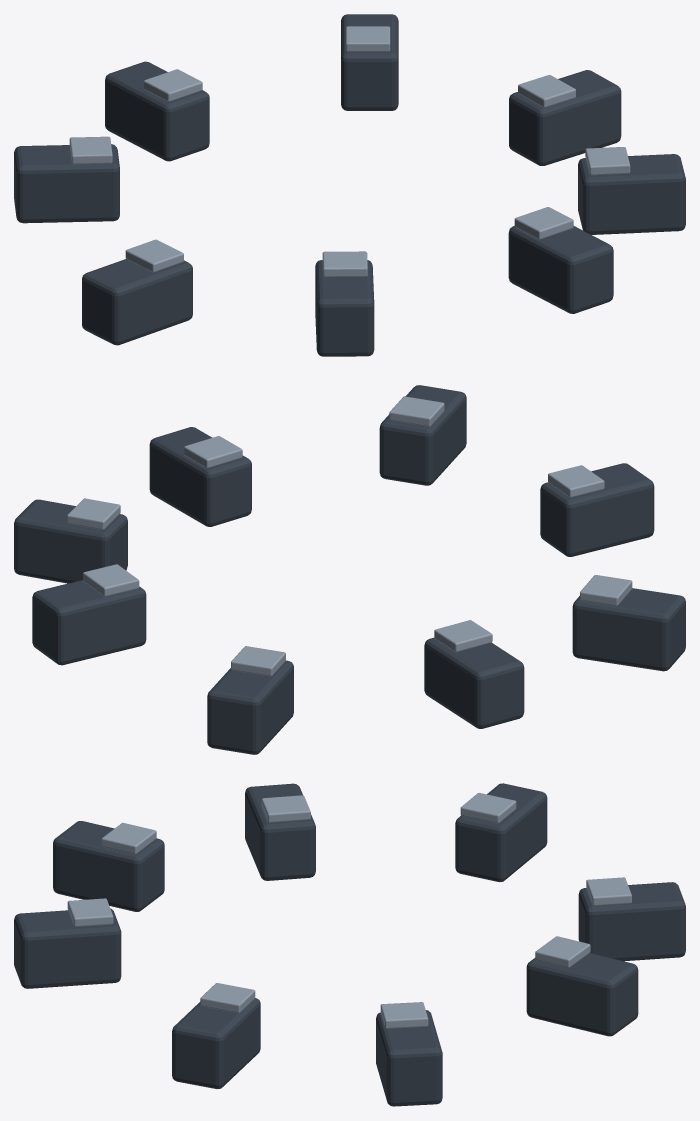
The model's file is ev_core_r11b_flux.glb.
3 views of the same model, one above another, from view 1: azimuth 30°, elevation 25°; view 2: azimuth 150°, elevation 25°; view 3: azimuth 270°, elevation 25° (orthographic). The views are drawn at different scales.
Visible parts, largest first — view 1: FluxHousing_4, FluxHousing_7, FluxHousing_0, FluxHousing_3, FluxHousing_6, FluxHousing_2, FluxHousing_5, FluxHousing_1, FluxCap_2, FluxCap_6, FluxCap_4, FluxCap_0 (+4 smaller); view 2: FluxHousing_1, FluxHousing_4, FluxHousing_5, FluxHousing_3, FluxHousing_0, FluxHousing_7, FluxHousing_2, FluxHousing_6, FluxCap_7, FluxCap_3, FluxCap_5, FluxCap_1 (+4 smaller); view 3: FluxHousing_1, FluxHousing_6, FluxHousing_5, FluxHousing_2, FluxHousing_3, FluxHousing_7, FluxHousing_0, FluxHousing_4, FluxCap_3, FluxCap_1, FluxCap_5, FluxCap_7 (+4 smaller).
Boxes of the visible parts, box(x1,y1,x2,y2) form: FluxHousing_4: box(82, 259, 192, 345); FluxHousing_7: box(578, 154, 685, 234); FluxHousing_0: box(509, 70, 621, 165); FluxHousing_3: box(14, 144, 119, 223); FluxHousing_6: box(508, 226, 613, 313); FluxHousing_2: box(105, 61, 209, 161); FluxHousing_5: box(315, 260, 374, 356); FluxHousing_1: box(341, 14, 398, 110); FluxCap_2: box(143, 69, 202, 101); FluxCap_6: box(514, 207, 573, 239); FluxCap_4: box(125, 239, 183, 272); FluxCap_0: box(518, 75, 575, 107); FluxHousing_1: box(32, 580, 146, 665); FluxHousing_4: box(572, 588, 685, 671); FluxHousing_5: box(540, 463, 654, 556); FluxHousing_3: box(424, 637, 524, 728); FluxHousing_0: box(14, 499, 127, 583); FluxHousing_7: box(149, 427, 251, 526); FluxHousing_2: box(207, 660, 293, 754); FluxHousing_6: box(379, 385, 466, 485); FluxCap_7: box(184, 436, 242, 468); FluxCap_3: box(434, 620, 492, 652); FluxCap_5: box(548, 465, 604, 497); FluxCap_1: box(83, 564, 139, 596); FluxHousing_1: box(526, 953, 638, 1036); FluxHousing_6: box(14, 908, 121, 988); FluxHousing_5: box(53, 821, 164, 911); FluxHousing_2: box(578, 882, 685, 961); FluxHousing_3: box(455, 783, 547, 882); FluxHousing_7: box(172, 998, 260, 1088); FluxHousing_0: box(376, 1010, 442, 1106); FluxHousing_4: box(245, 783, 315, 880); FluxCap_3: box(460, 793, 516, 823); FluxCap_1: box(535, 936, 590, 967); FluxCap_5: box(101, 822, 156, 854); FluxCap_7: box(200, 983, 255, 1013).
Bounding box in the file's own units: 7.32 × 1.22 × 7.39.
